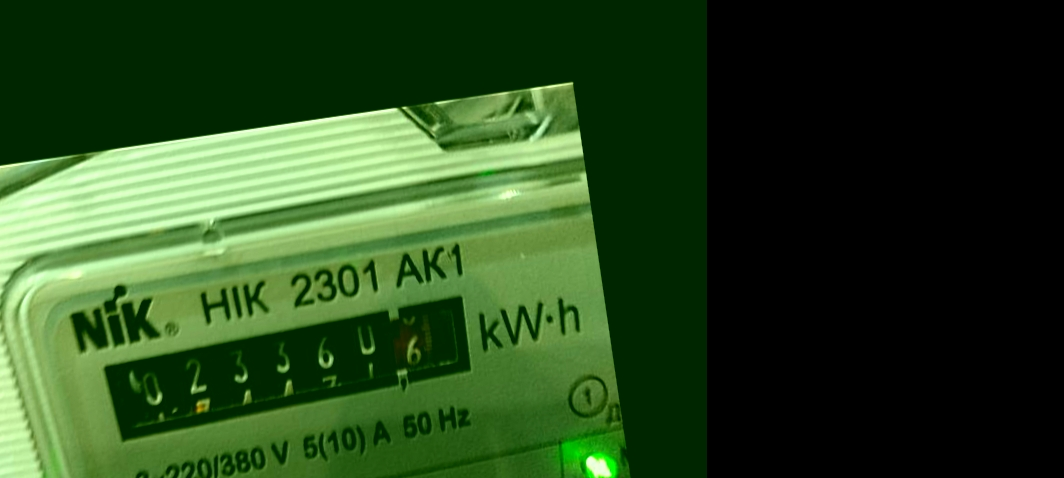0: (136, 367, 167, 413), (352, 321, 380, 361)
2: (179, 355, 210, 398)
3: (225, 347, 252, 390), (266, 339, 294, 380)
6: (308, 332, 339, 376), (401, 333, 427, 372)
screen: (77, 282, 491, 457)
